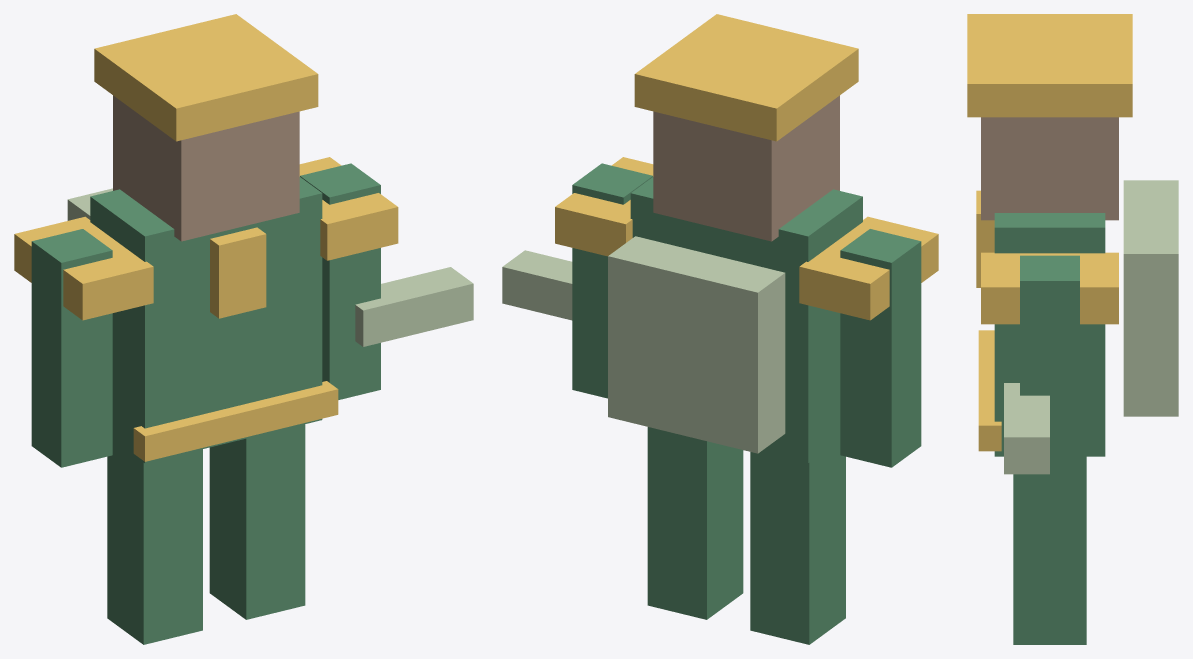
Rendered from 18_tovin_cinderholt_guide_of_dub.glb.
3 renders of one model, left to right at view 1: azimuth 30°, elevation 25°; view 2: azimuth 150°, elevation 25°; view 3: azimuth 270°, elevation 25°, orthographic.
Parts seen in each view (by area): view 1: Tovin Cinderholt, Guide of Dub; view 2: Tovin Cinderholt, Guide of Dub; view 3: Tovin Cinderholt, Guide of Dub.
Boxes of the visible parts, x1=… form: Tovin Cinderholt, Guide of Dub: x1=14, y1=14, x2=473, y2=644; Tovin Cinderholt, Guide of Dub: x1=502, y1=14, x2=938, y2=644; Tovin Cinderholt, Guide of Dub: x1=967, y1=14, x2=1178, y2=644.
Bounding box in the file's own units: 1.1 × 1.44 × 0.4952.
